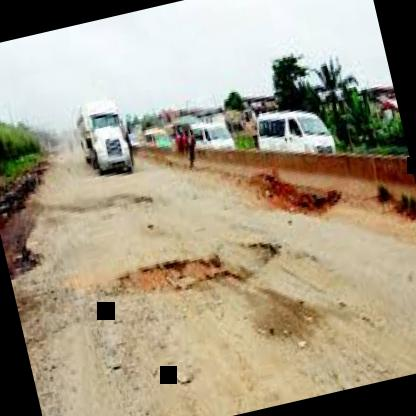car: (58, 84, 144, 190), (252, 92, 348, 184), (173, 94, 241, 170)
